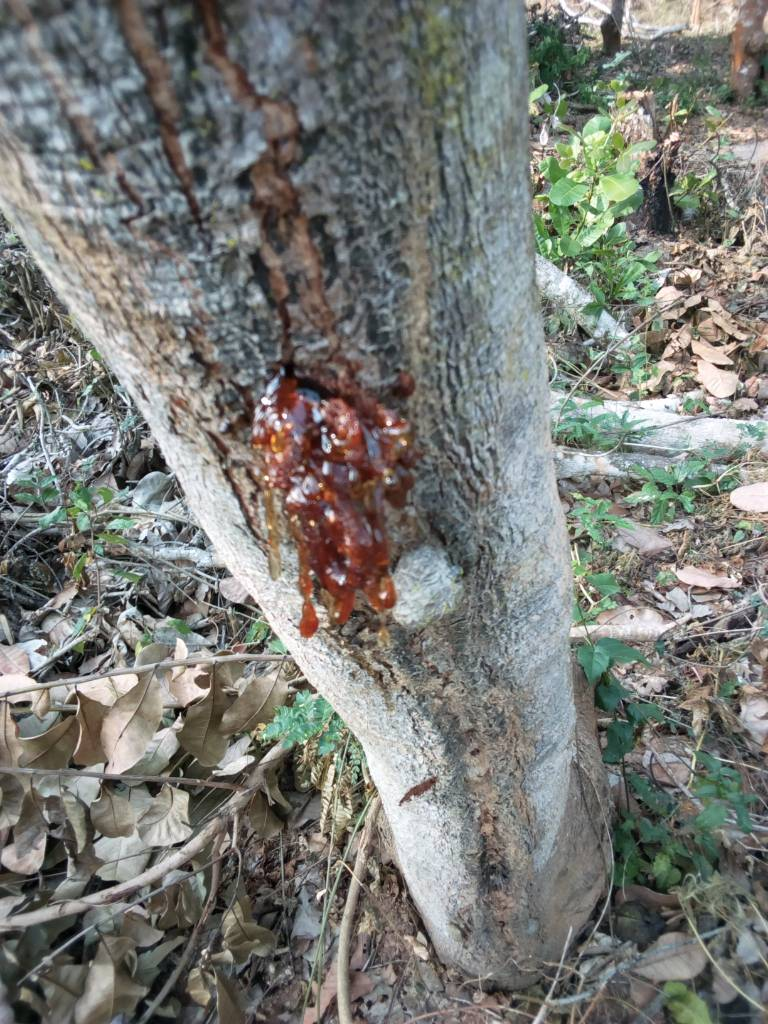Gommose: (215, 313, 419, 642)
